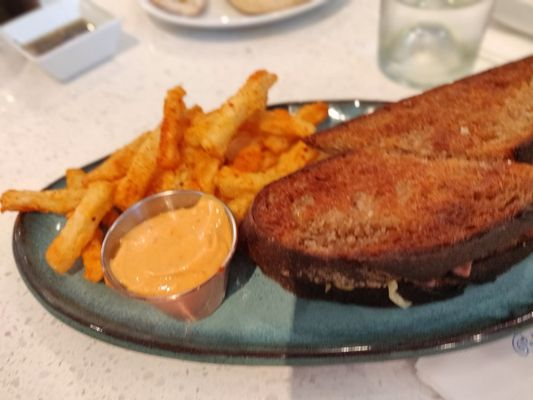pizza: (377, 0, 497, 87)
soup: (241, 56, 533, 308)
sushi: (100, 188, 240, 324)
